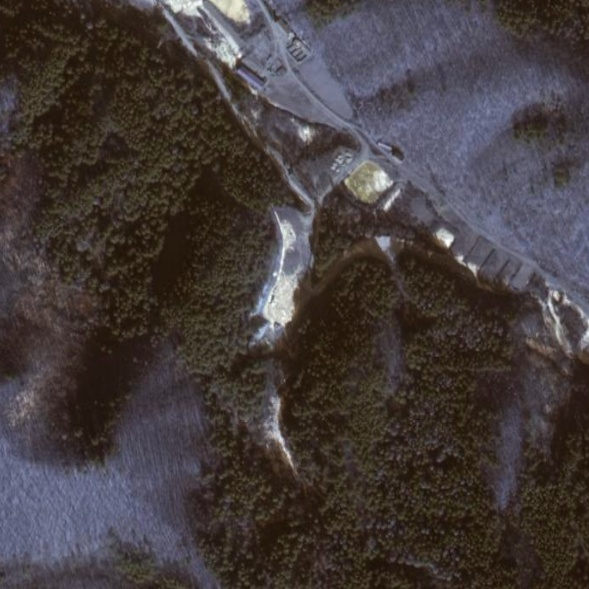slope: (524, 282, 588, 474), (246, 198, 311, 352), (263, 392, 309, 493)
